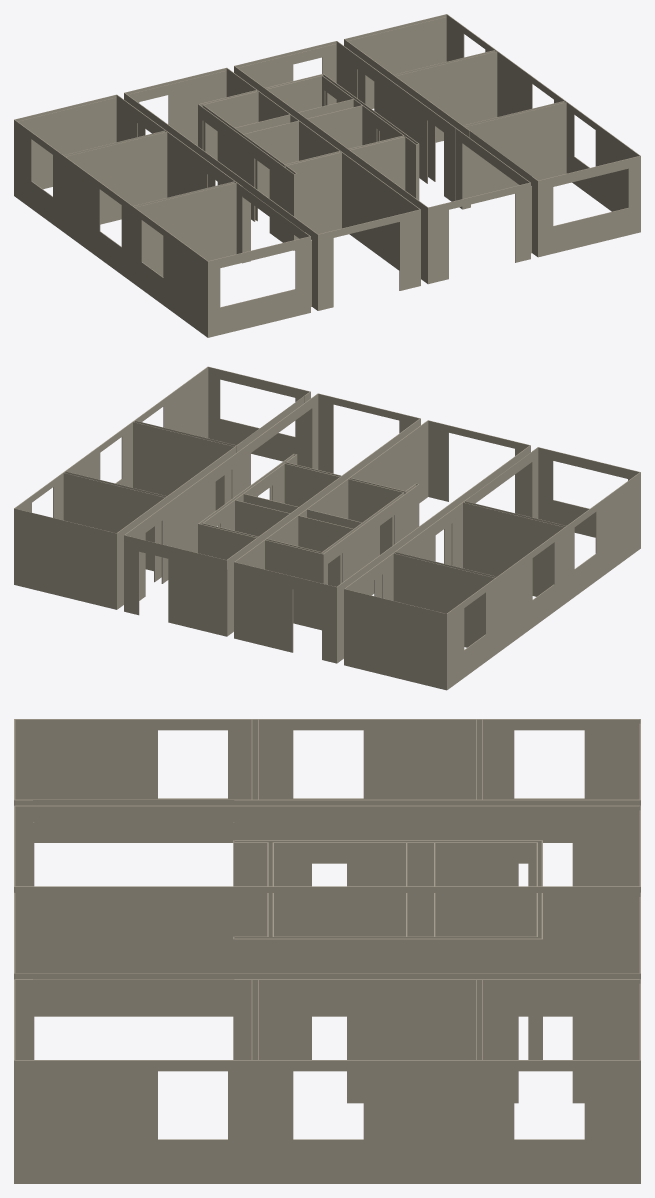
Rendered from Kips_2kihiline v2.glb.
3 views of the same model, one above another, from view 1: azimuth 30°, elevation 25°; view 2: azimuth 150°, elevation 25°; view 3: azimuth 270°, elevation 25° (orthographic). The views are drawn at different scales.
Visible parts, largest first — view 1: Kipsplaat_448 (×4), Kipsplaat_459, Kipsplaat_484 (×7), Kipsplaat_449 (×2), Kipsplaat_455 (×2), Kipsplaat_461 (×2), Kipsplaat_460, Kipsplaat_471, Kipsplaat_467 (×2), Kipsplaat_486, Kipsplaat_469, Kipsplaat_488 (×2) (+13 smaller); view 2: Kipsplaat_448 (×4), Kipsplaat_454 (×2), Kipsplaat_459, Kipsplaat_466 (×2), Kipsplaat_450 (×2), Kipsplaat_484 (×5), Kipsplaat_471, Kipsplaat_460, Kipsplaat_462 (×2), Kipsplaat_482 (×2), Kipsplaat_486, Kipsplaat_469 (+13 smaller); view 3: Kipsplaat_459 (×2), Kipsplaat_471, Kipsplaat_460 (×2), Kipsplaat_457, Kipsplaat_486 (×2), Kipsplaat_488 (×2), Kipsplaat_458, Kipsplaat_470, Kipsplaat_456 (×2), Kipsplaat_469, Kipsplaat_468, Kipsplaat_472 (+5 smaller).
Part boxes in pixels (left/top/right/bottom): Kipsplaat_448 (×4): left=66, top=51, right=566, bottom=276; Kipsplaat_459: left=14, top=120, right=207, bottom=337; Kipsplaat_484 (×7): left=202, top=75, right=405, bottom=239; Kipsplaat_449 (×2): left=207, top=156, right=640, bottom=337; Kipsplaat_455 (×2): left=18, top=17, right=446, bottom=189; Kipsplaat_461 (×2): left=317, top=182, right=530, bottom=310; Kipsplaat_460: left=446, top=14, right=639, bottom=211; Kipsplaat_471: left=226, top=68, right=419, bottom=270; Kipsplaat_467 (×2): left=128, top=44, right=336, bottom=145; Kipsplaat_486: left=198, top=104, right=293, bottom=242; Kipsplaat_469: left=386, top=77, right=455, bottom=201; Kipsplaat_488 (×2): left=203, top=76, right=415, bottom=221; Kipsplaat_448 (×4): left=63, top=422, right=564, bottom=647; Kipsplaat_454 (×2): left=14, top=508, right=447, bottom=690; Kipsplaat_459: left=447, top=472, right=640, bottom=689; Kipsplaat_466 (×2): left=124, top=535, right=337, bottom=663; Kipsplaat_450 (×2): left=208, top=366, right=639, bottom=537; Kipsplaat_484 (×5): left=234, top=463, right=404, bottom=586; Kipsplaat_471: left=235, top=421, right=428, bottom=569; Kipsplaat_460: left=15, top=367, right=208, bottom=520; Kipsplaat_462 (×2): left=318, top=393, right=529, bottom=515; Kipsplaat_482 (×2): left=198, top=524, right=322, bottom=630; Kipsplaat_486: left=323, top=484, right=418, bottom=595; Kipsplaat_469: left=174, top=448, right=244, bottom=552; Kipsplaat_459 (×2): left=14, top=719, right=640, bottom=1183; Kipsplaat_471: left=15, top=893, right=639, bottom=1016; Kipsplaat_460 (×2): left=15, top=719, right=639, bottom=1139; Kipsplaat_457: left=254, top=979, right=478, bottom=1103; Kipsplaat_486 (×2): left=234, top=840, right=542, bottom=1059; Kipsplaat_488 (×2): left=234, top=842, right=536, bottom=938; Kipsplaat_458: left=479, top=979, right=639, bottom=1103; Kipsplaat_470: left=479, top=806, right=639, bottom=886; Kipsplaat_456 (×2): left=15, top=799, right=254, bottom=1059; Kipsplaat_469: left=254, top=806, right=478, bottom=886; Kipsplaat_468: left=15, top=806, right=254, bottom=886; Kipsplaat_472: left=14, top=886, right=640, bottom=892.
Size of the model in its own units: 14.96 by 2.52 by 11.61.
